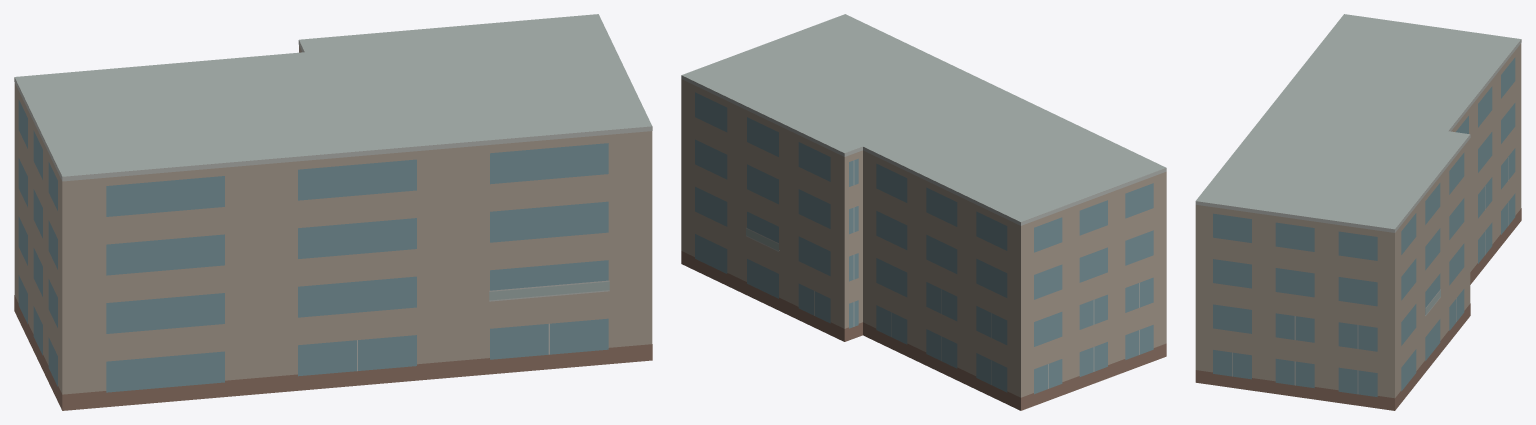
File: residential-f5229135-55cd-4660-aa1f-a52b95518b17.glb
3 renders of one model, left to right at view 1: azimuth 30°, elevation 25°; view 2: azimuth 150°, elevation 25°; view 3: azimuth 270°, elevation 25°, orthographic. The views are drawn at different scales.
Visible parts, largest first — view 1: residential-f5229135-55cd-4660-aa1f-a52b95518b17.tmp; view 2: residential-f5229135-55cd-4660-aa1f-a52b95518b17.tmp; view 3: residential-f5229135-55cd-4660-aa1f-a52b95518b17.tmp.
Boxes of the visible parts, left/top/right/bottom form: residential-f5229135-55cd-4660-aa1f-a52b95518b17.tmp: left=14, top=14, right=652, bottom=410; residential-f5229135-55cd-4660-aa1f-a52b95518b17.tmp: left=681, top=14, right=1166, bottom=410; residential-f5229135-55cd-4660-aa1f-a52b95518b17.tmp: left=1195, top=14, right=1521, bottom=410.
Size of the model in its own units: 31.04 by 12.2 by 19.86.
